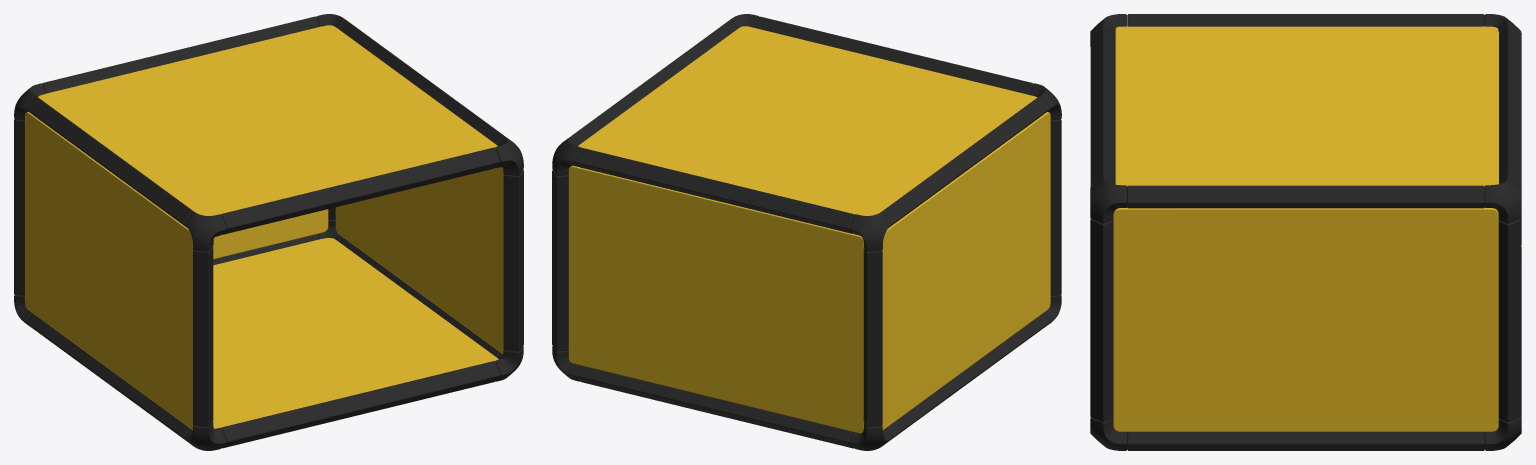
3 views of the same model, side by side, from view 1: azimuth 30°, elevation 25°; view 2: azimuth 150°, elevation 25°; view 3: azimuth 270°, elevation 25° (orthographic). The views are drawn at different scales.
Parts seen in each view (by area): view 1: 374x374x229; view 2: 374x374x229; view 3: 374x374x229.
Boxes of the visible parts, left/top/right/bottom form: 374x374x229: left=14, top=14, right=523, bottom=450; 374x374x229: left=552, top=14, right=1061, bottom=450; 374x374x229: left=1090, top=14, right=1521, bottom=450.
Bounding box in the file's own units: 0.4517 × 0.3066 × 0.4513.
